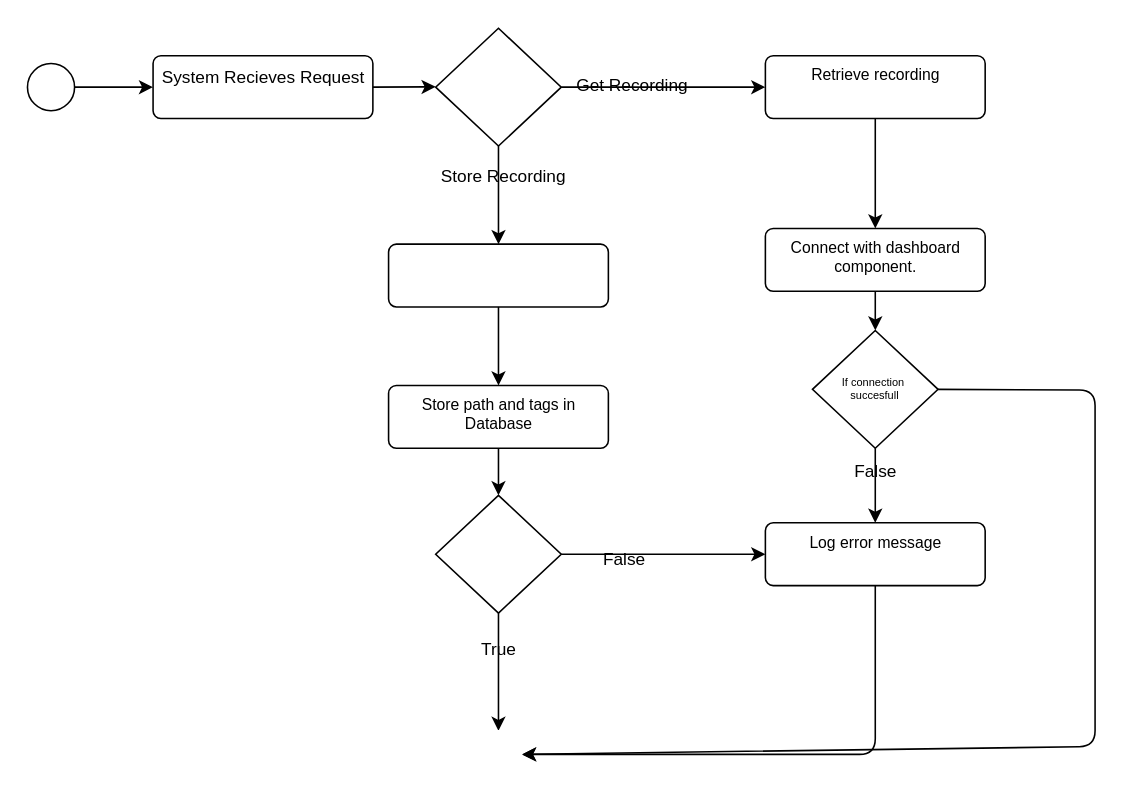
Some shapes in this 1135 by 805 pixel diagram are drawn without their labels. The centre of each missing label's shape, as x and y in pixels:
If Storage succesfull: (497,553)
Store recording in S3 Storage: (497,275)
Type of Request: (497,86)
